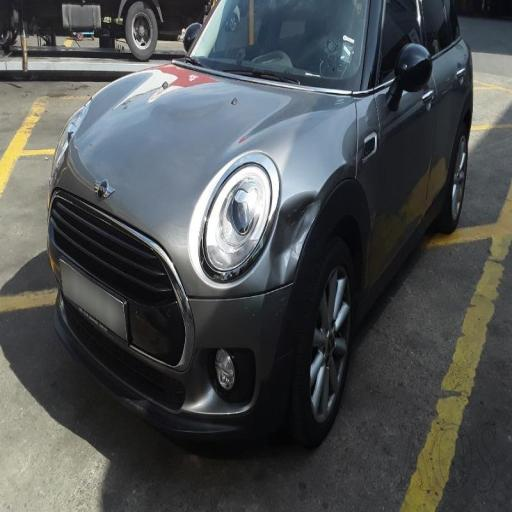dent: (245, 170, 333, 325)
